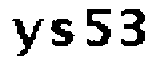3: (119, 7, 151, 51)
5: (83, 8, 113, 48)
s: (48, 18, 78, 51)
y: (10, 16, 45, 57)
